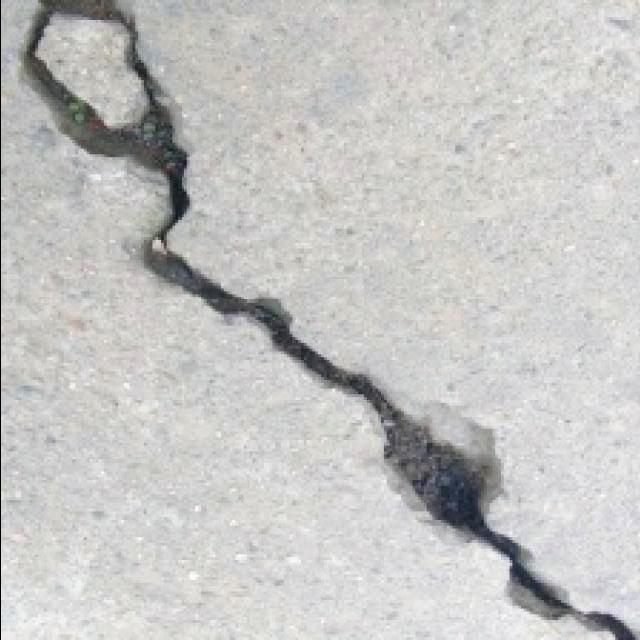SurfaceCrack: (14, 12, 610, 640)
